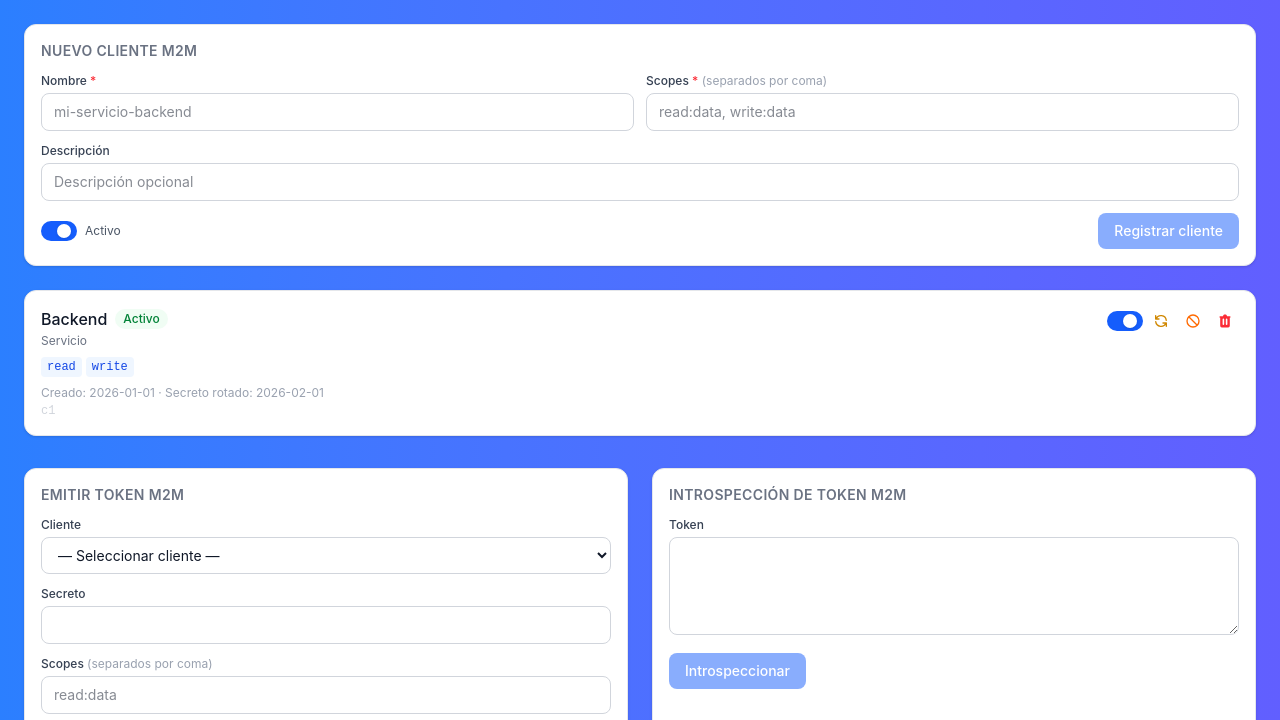
ApplicationManagedClientsComponent › deletes a client after confirmation and reports errors; cancelling does nothing
This screenshot has width=1280, height=720.
Click the button titled "Eliminar" at (1225, 321), box [1211, 307, 1239, 335]
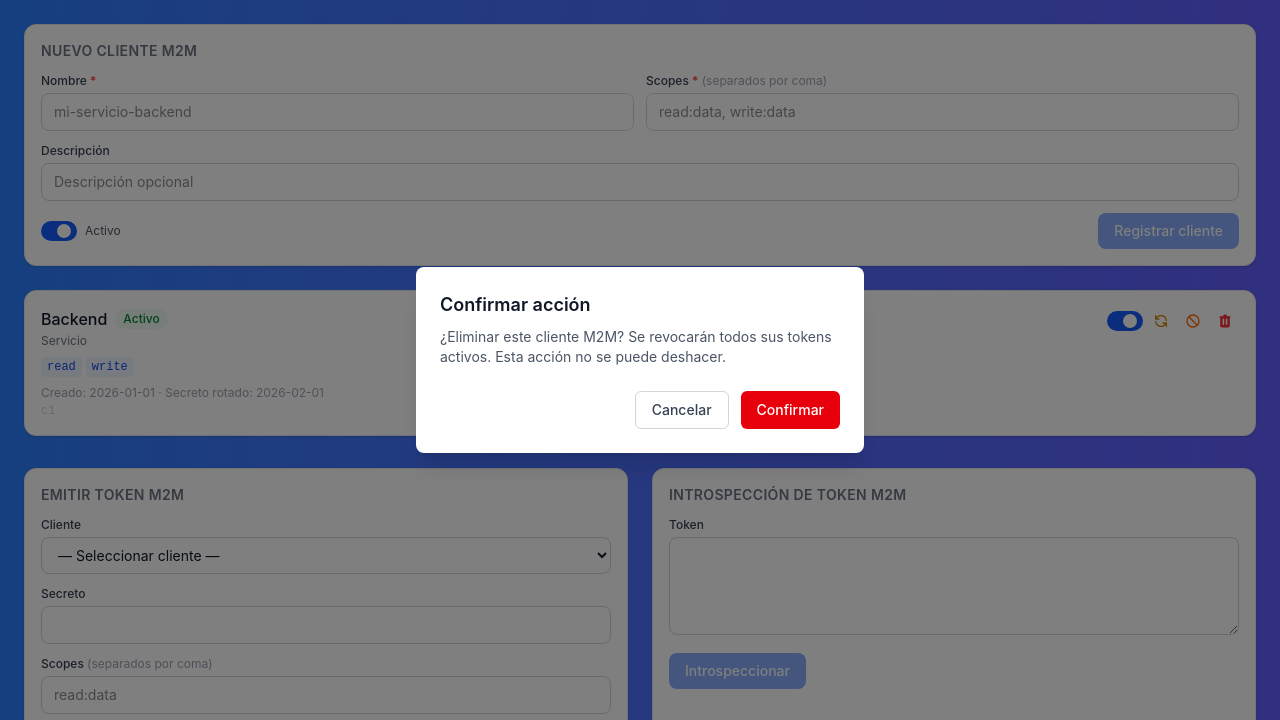
Click the button "Cancelar" at (682, 410), box [635, 391, 728, 429]
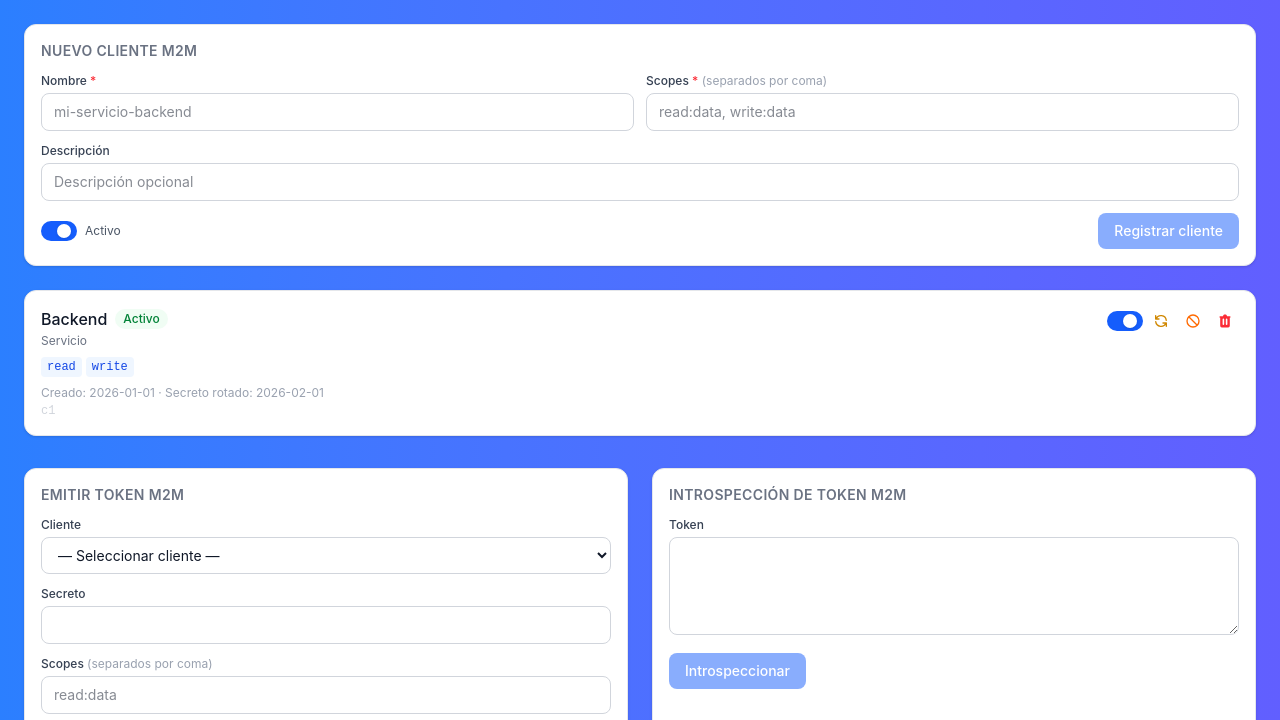
Click the button titled "Eliminar" at (1225, 321), box [1211, 307, 1239, 335]
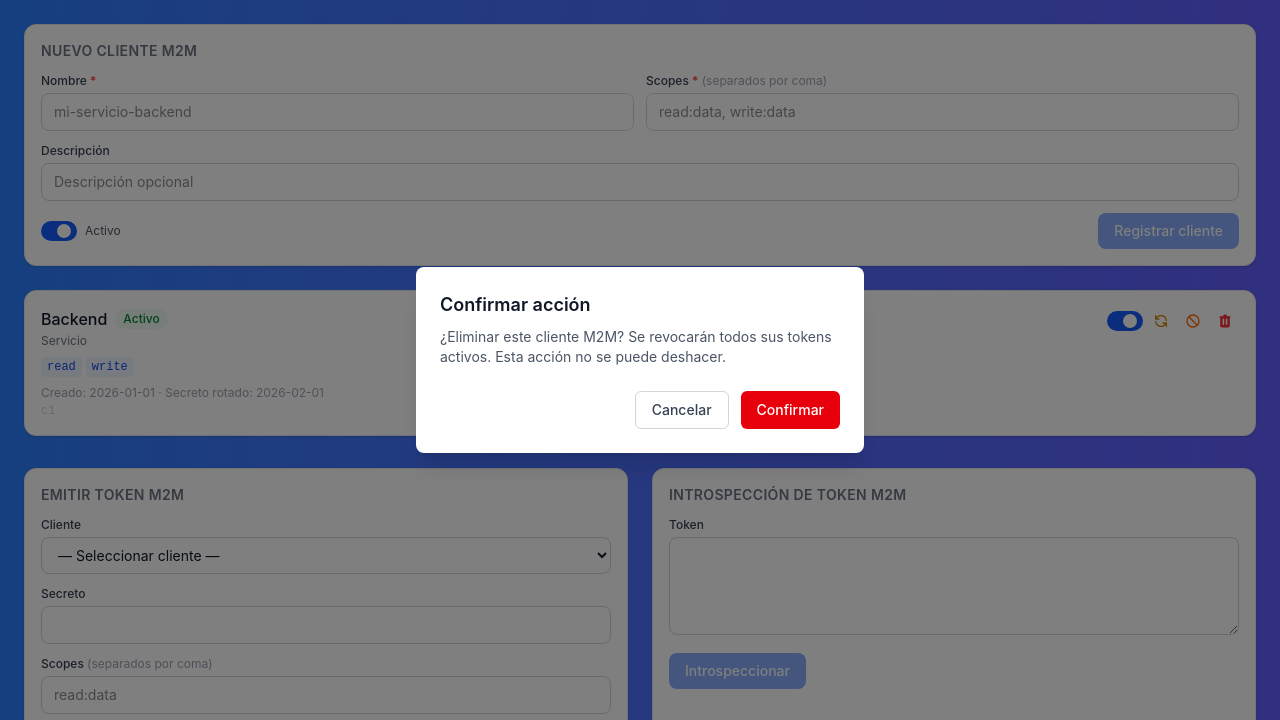
Click the button "Confirmar" at (790, 410), box [741, 391, 840, 429]
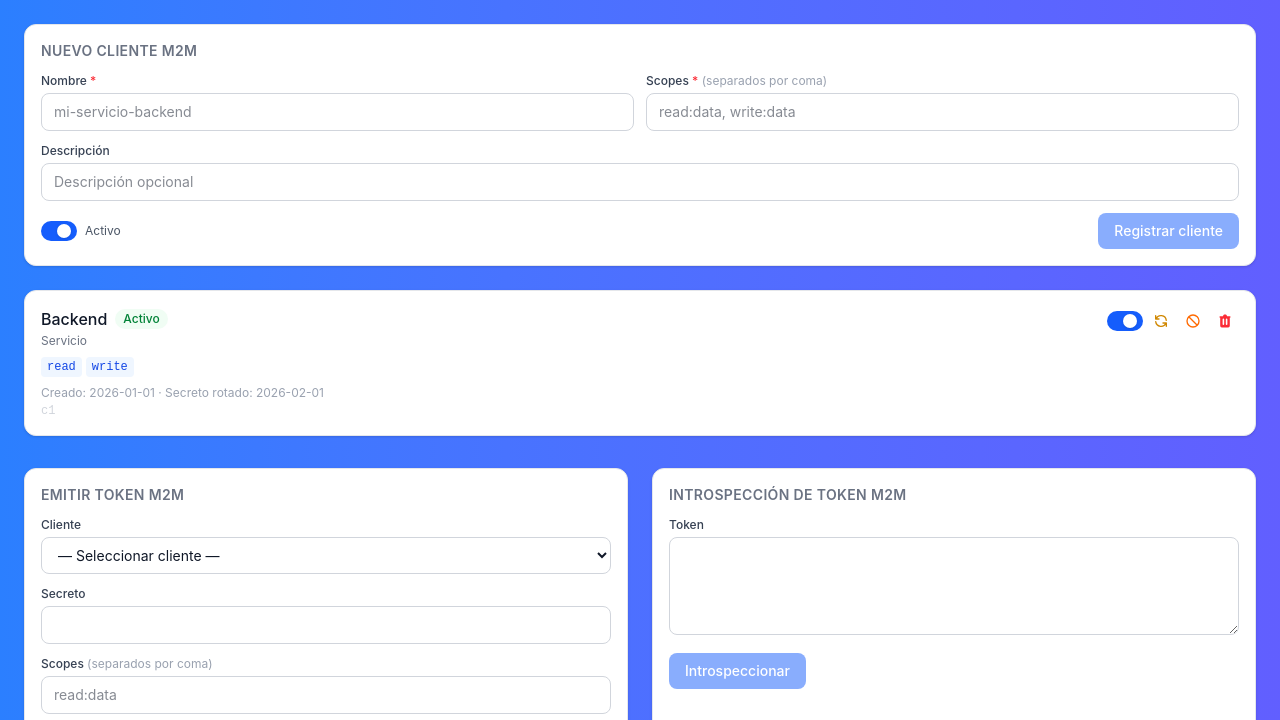
Click the button titled "Eliminar" at (1225, 321), box [1211, 307, 1239, 335]
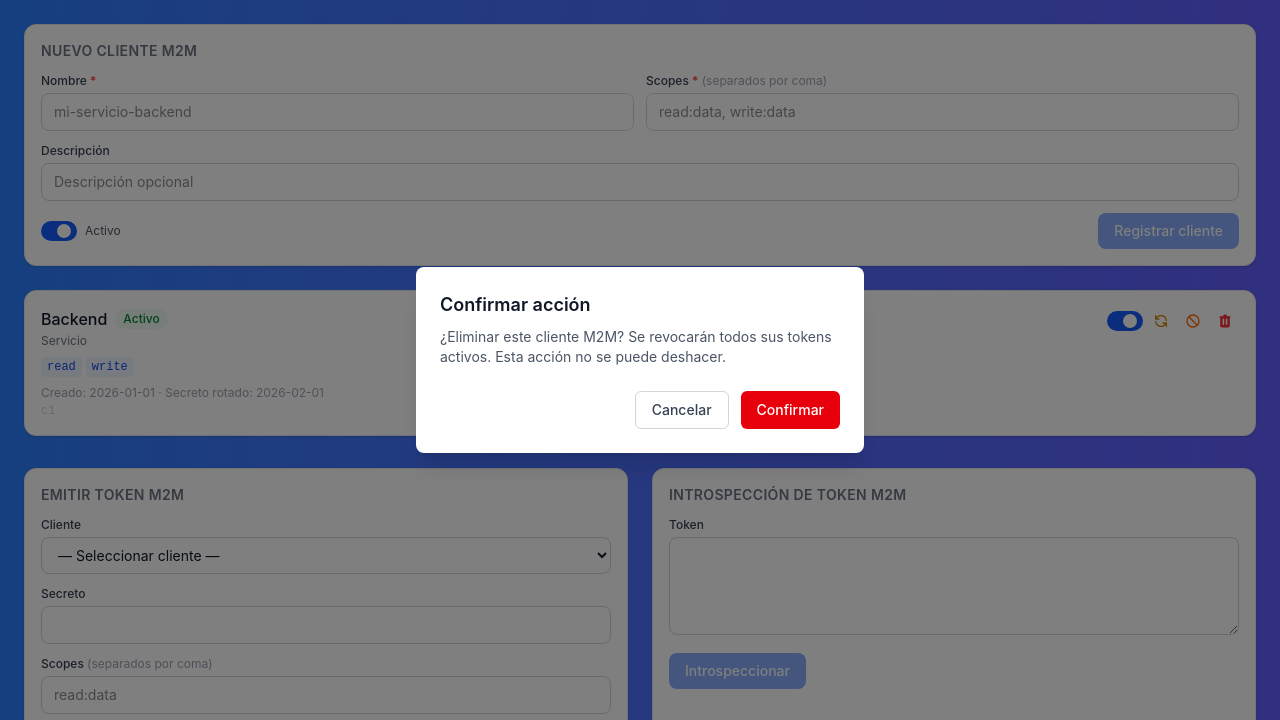
Click the button "Confirmar" at (790, 410), box [741, 391, 840, 429]
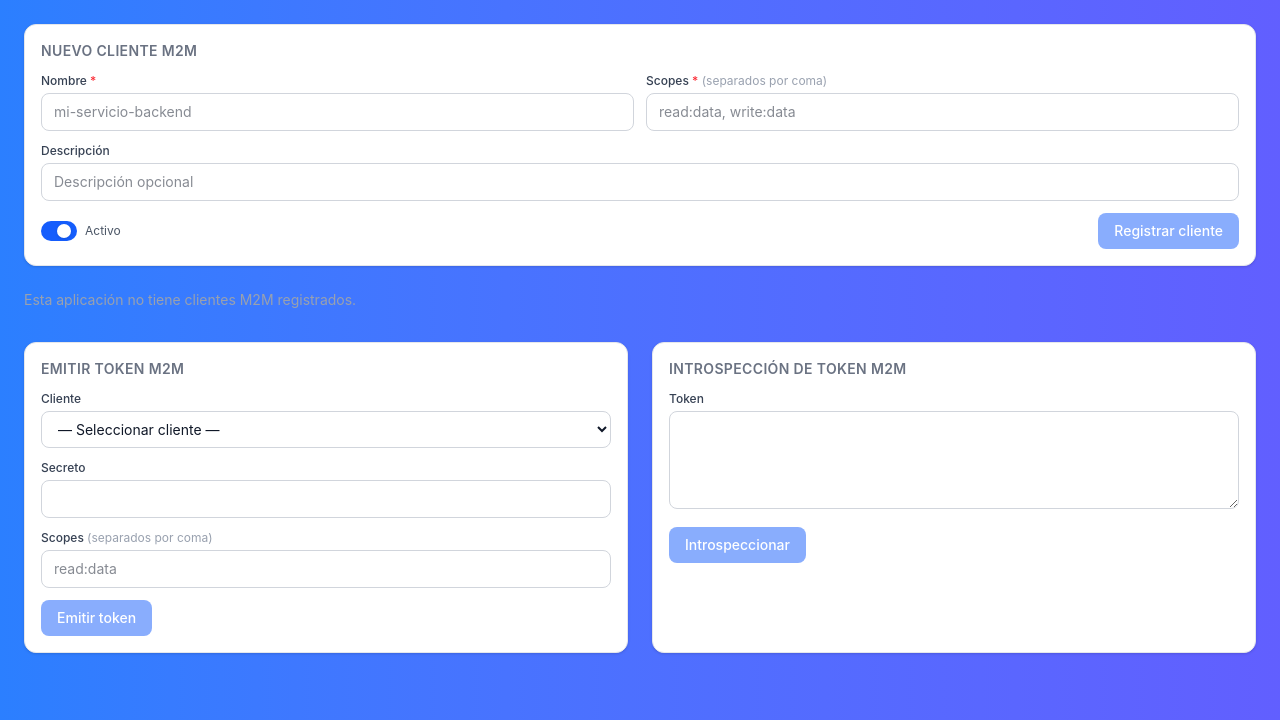
Now the text "Backend" is gone
